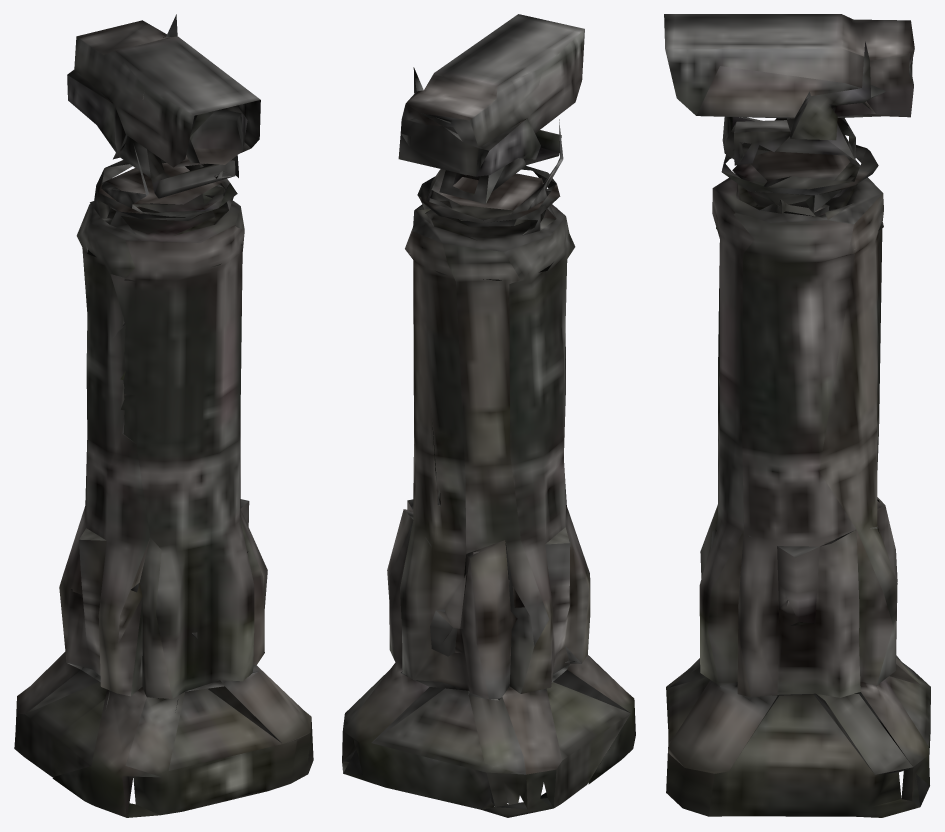
File: floodlight_55650499_lod0m.glb
3 renders of one model, left to right at view 1: azimuth 30°, elevation 25°; view 2: azimuth 150°, elevation 25°; view 3: azimuth 270°, elevation 25°, orthographic. The views are drawn at different scales.
Bounding box in the file's own units: 1.44 × 4.5 × 1.46.
Materials: 1 (1 with a texture image).
